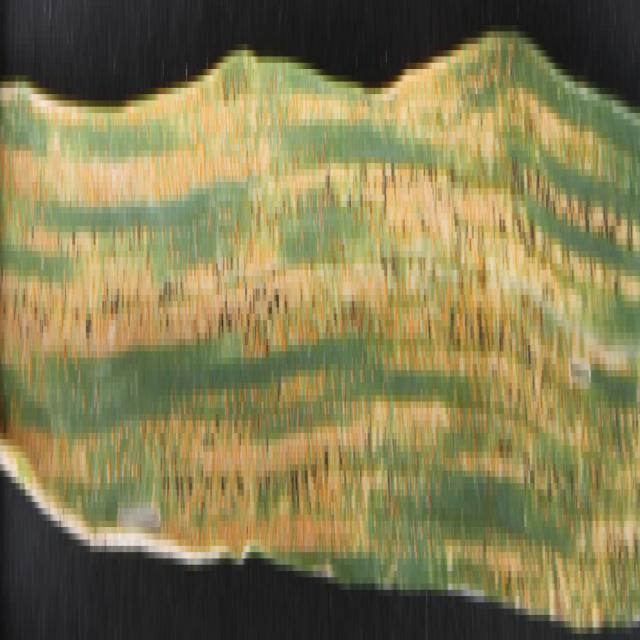leaf rust: (1, 57, 638, 596)
